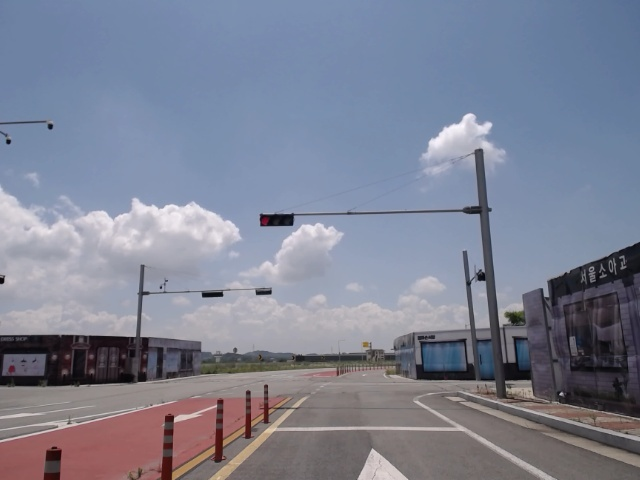red_3: (260, 213, 295, 227)
